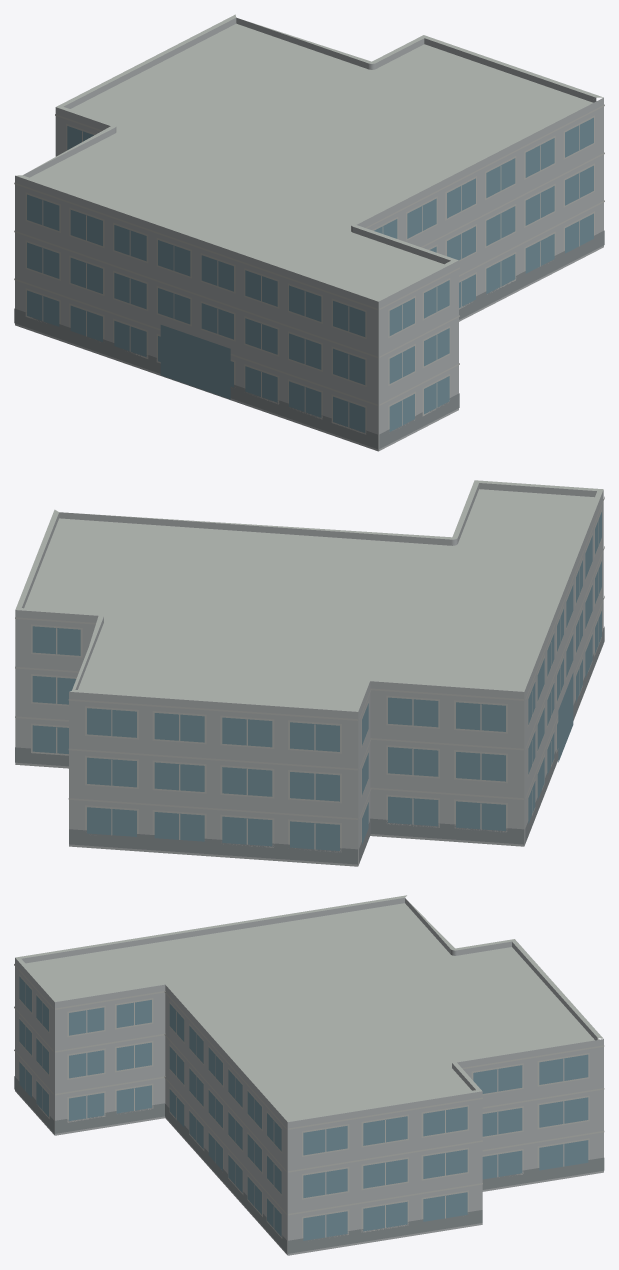
The model's file is public-434c0282-81ed-426f-9224-43184b7884a4.glb.
The picture shows the model from 3 angles, top to bottom: view 1: azimuth 30°, elevation 25°; view 2: azimuth 150°, elevation 25°; view 3: azimuth 270°, elevation 25°; orthographic projection. The views are drawn at different scales.
Visible parts, largest first — view 1: public-434c0282-81ed-426f-9224-43184b7884a4; view 2: public-434c0282-81ed-426f-9224-43184b7884a4; view 3: public-434c0282-81ed-426f-9224-43184b7884a4.
Boxes of the visible parts, x1,y1,x2,y2 form: public-434c0282-81ed-426f-9224-43184b7884a4: [14, 14, 604, 451]; public-434c0282-81ed-426f-9224-43184b7884a4: [15, 480, 604, 866]; public-434c0282-81ed-426f-9224-43184b7884a4: [14, 895, 604, 1255].
Size of the model in its own units: 33.49 by 9.15 by 36.69.
